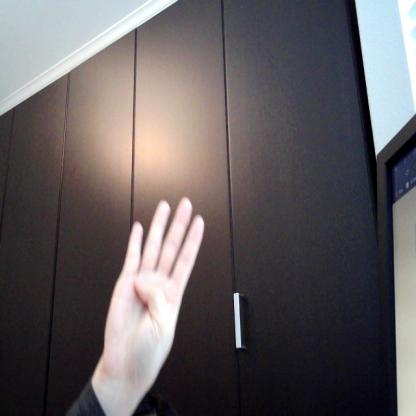four: (107, 192, 209, 377)
